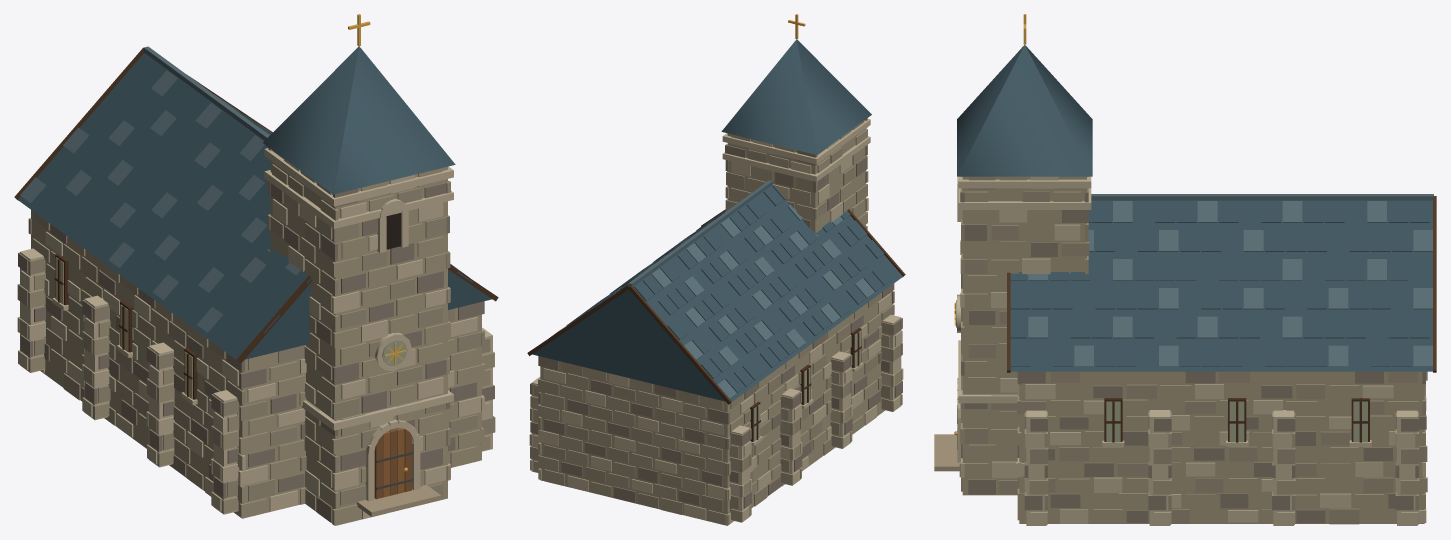
Rendered from igreja.glb.
The picture shows the model from 3 angles, left to right: view 1: azimuth 30°, elevation 25°; view 2: azimuth 150°, elevation 25°; view 3: azimuth 270°, elevation 25°; orthographic projection. The views are drawn at different scales.
Parts seen in each view (by area): view 1: church; view 2: church; view 3: church.
Part boxes in pixels (x1,y1,x2,y2): church: [14, 14, 498, 525]; church: [527, 14, 905, 525]; church: [934, 14, 1436, 525].
Bounding box in the file's own units: 10.17 × 16.92 × 16.95.
